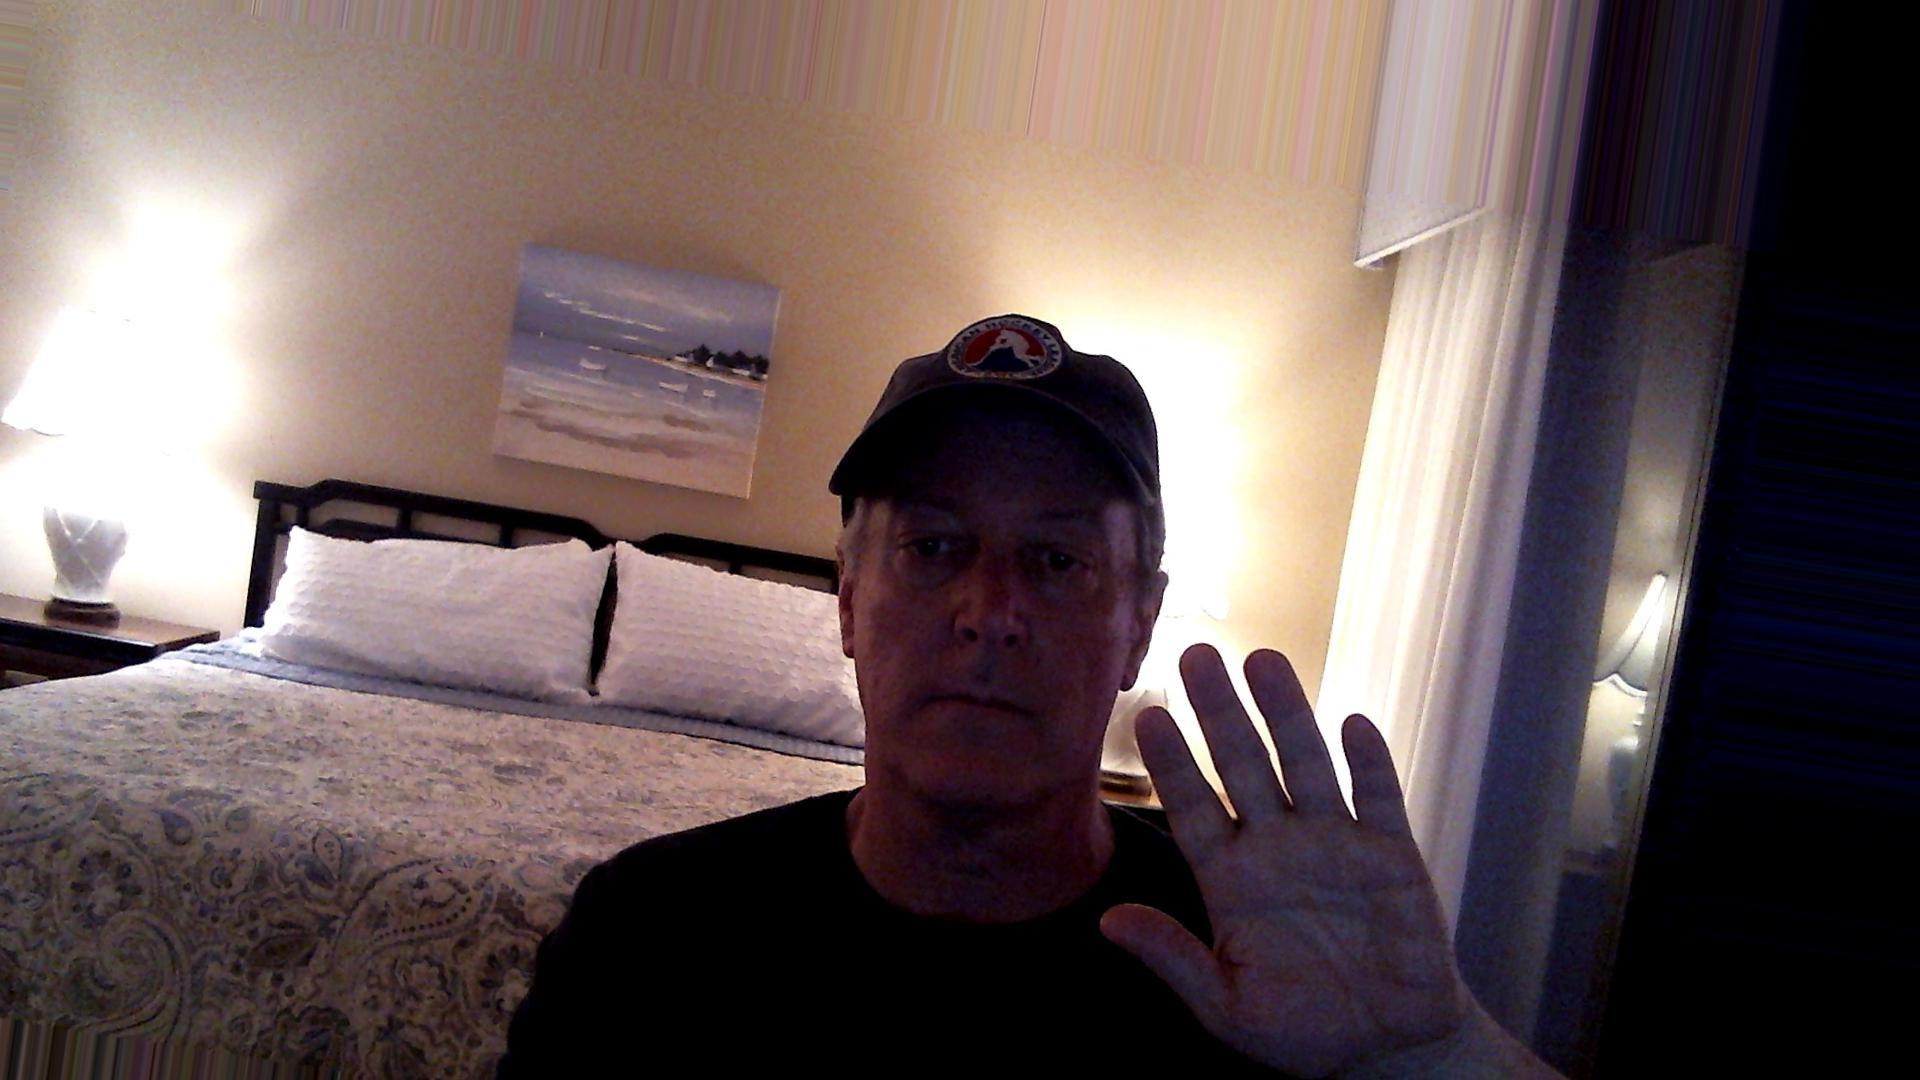Hello: (1075, 630, 1497, 1054)
